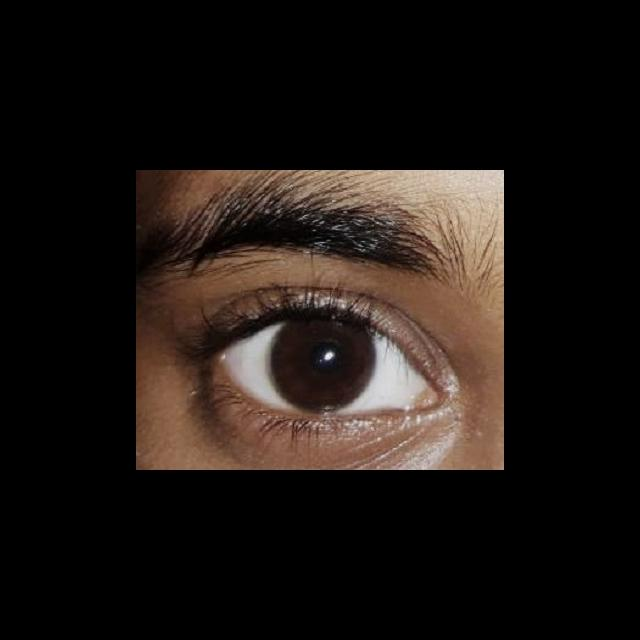eye: (224, 315, 417, 415)
iris: (271, 319, 376, 414)
